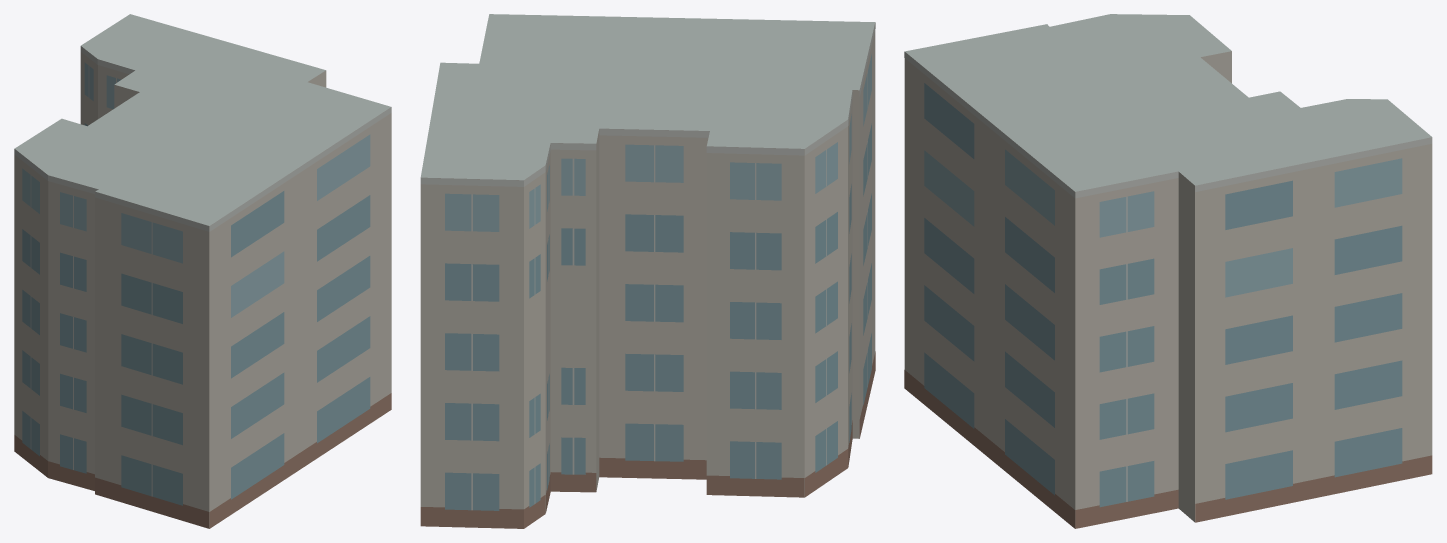
Rendered from survey-upis-32660634.glb.
3 renders of one model, left to right at view 1: azimuth 30°, elevation 25°; view 2: azimuth 150°, elevation 25°; view 3: azimuth 270°, elevation 25°, orthographic. The views are drawn at different scales.
Visible parts, largest first — view 1: survey-upis-32660634.tmp; view 2: survey-upis-32660634.tmp; view 3: survey-upis-32660634.tmp.
Part boxes in pixels (x1,y1,x2,y2): survey-upis-32660634.tmp: (14,14,391,528); survey-upis-32660634.tmp: (420,14,875,528); survey-upis-32660634.tmp: (904,14,1432,528).
Bounding box in the file's own units: 14.27 × 12.6 × 17.9.
